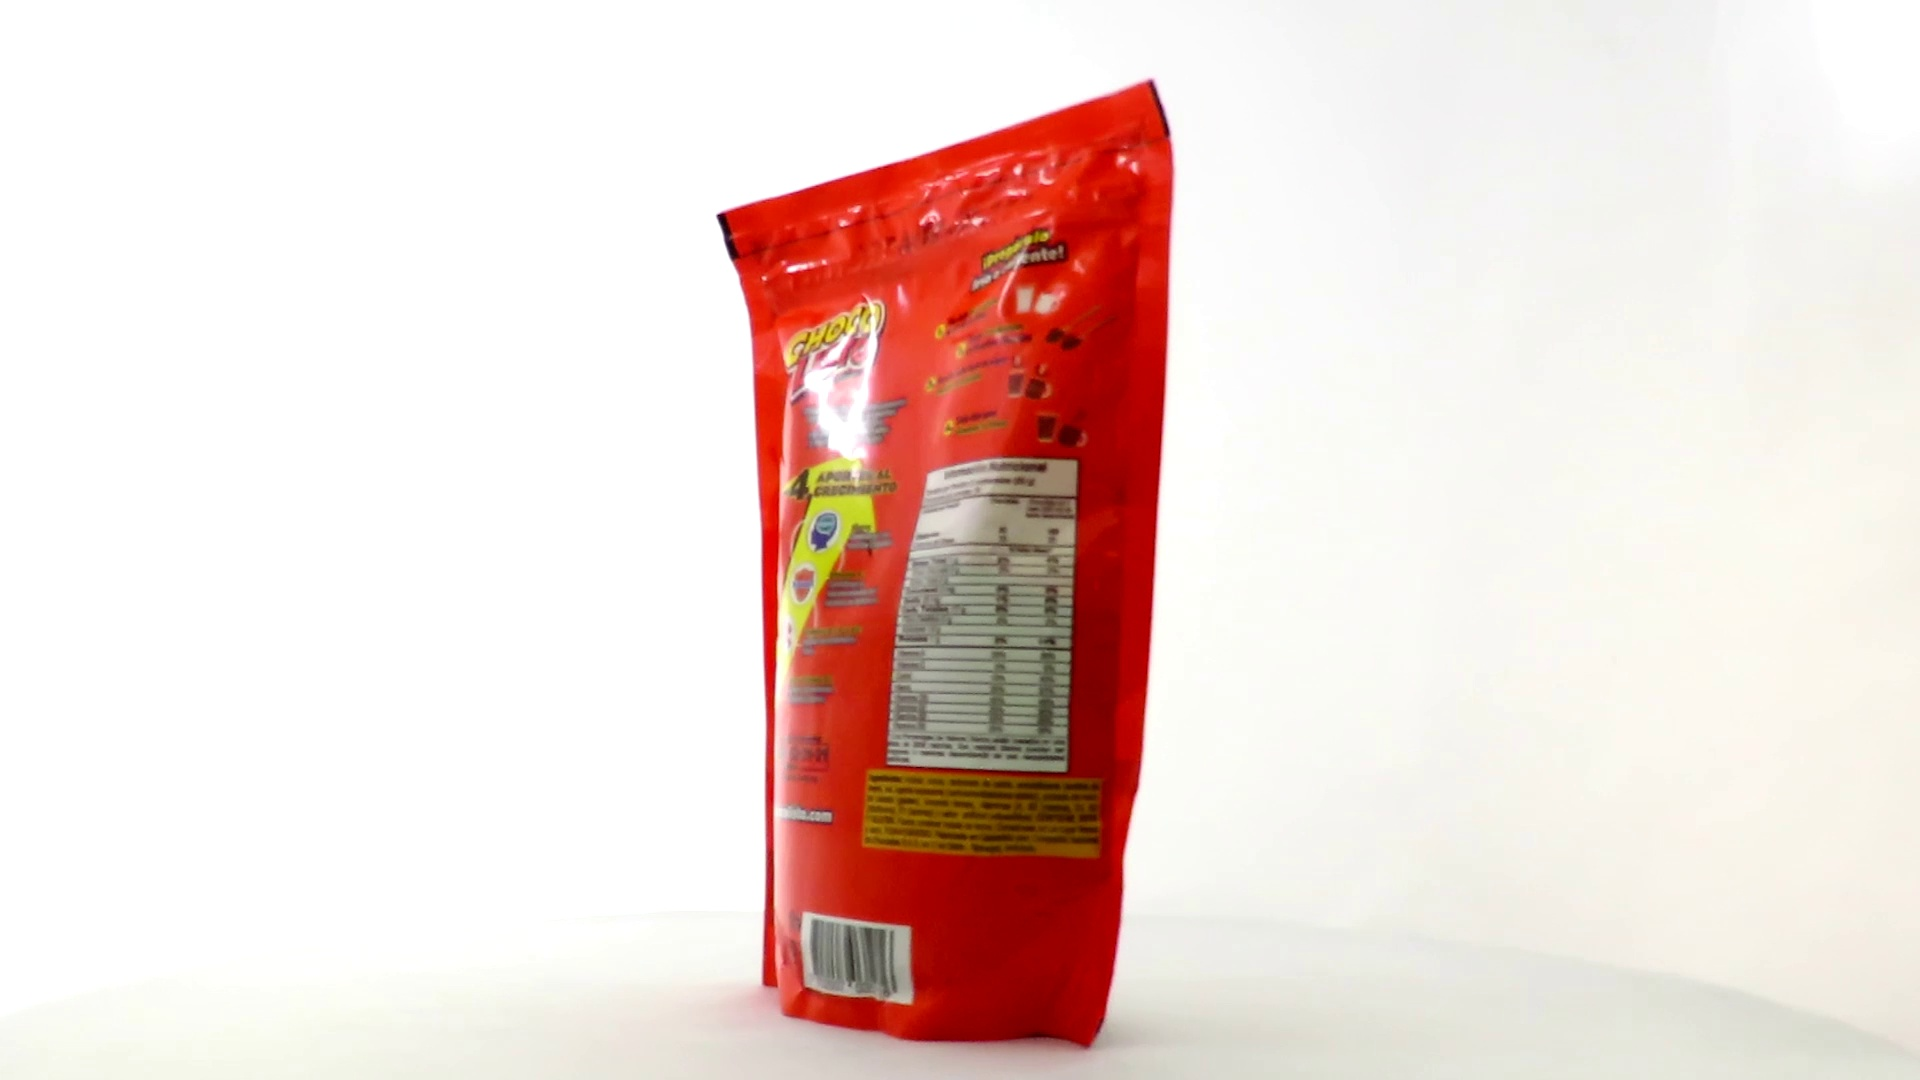COL0170103DYP36000: (712, 74, 1180, 1056)
